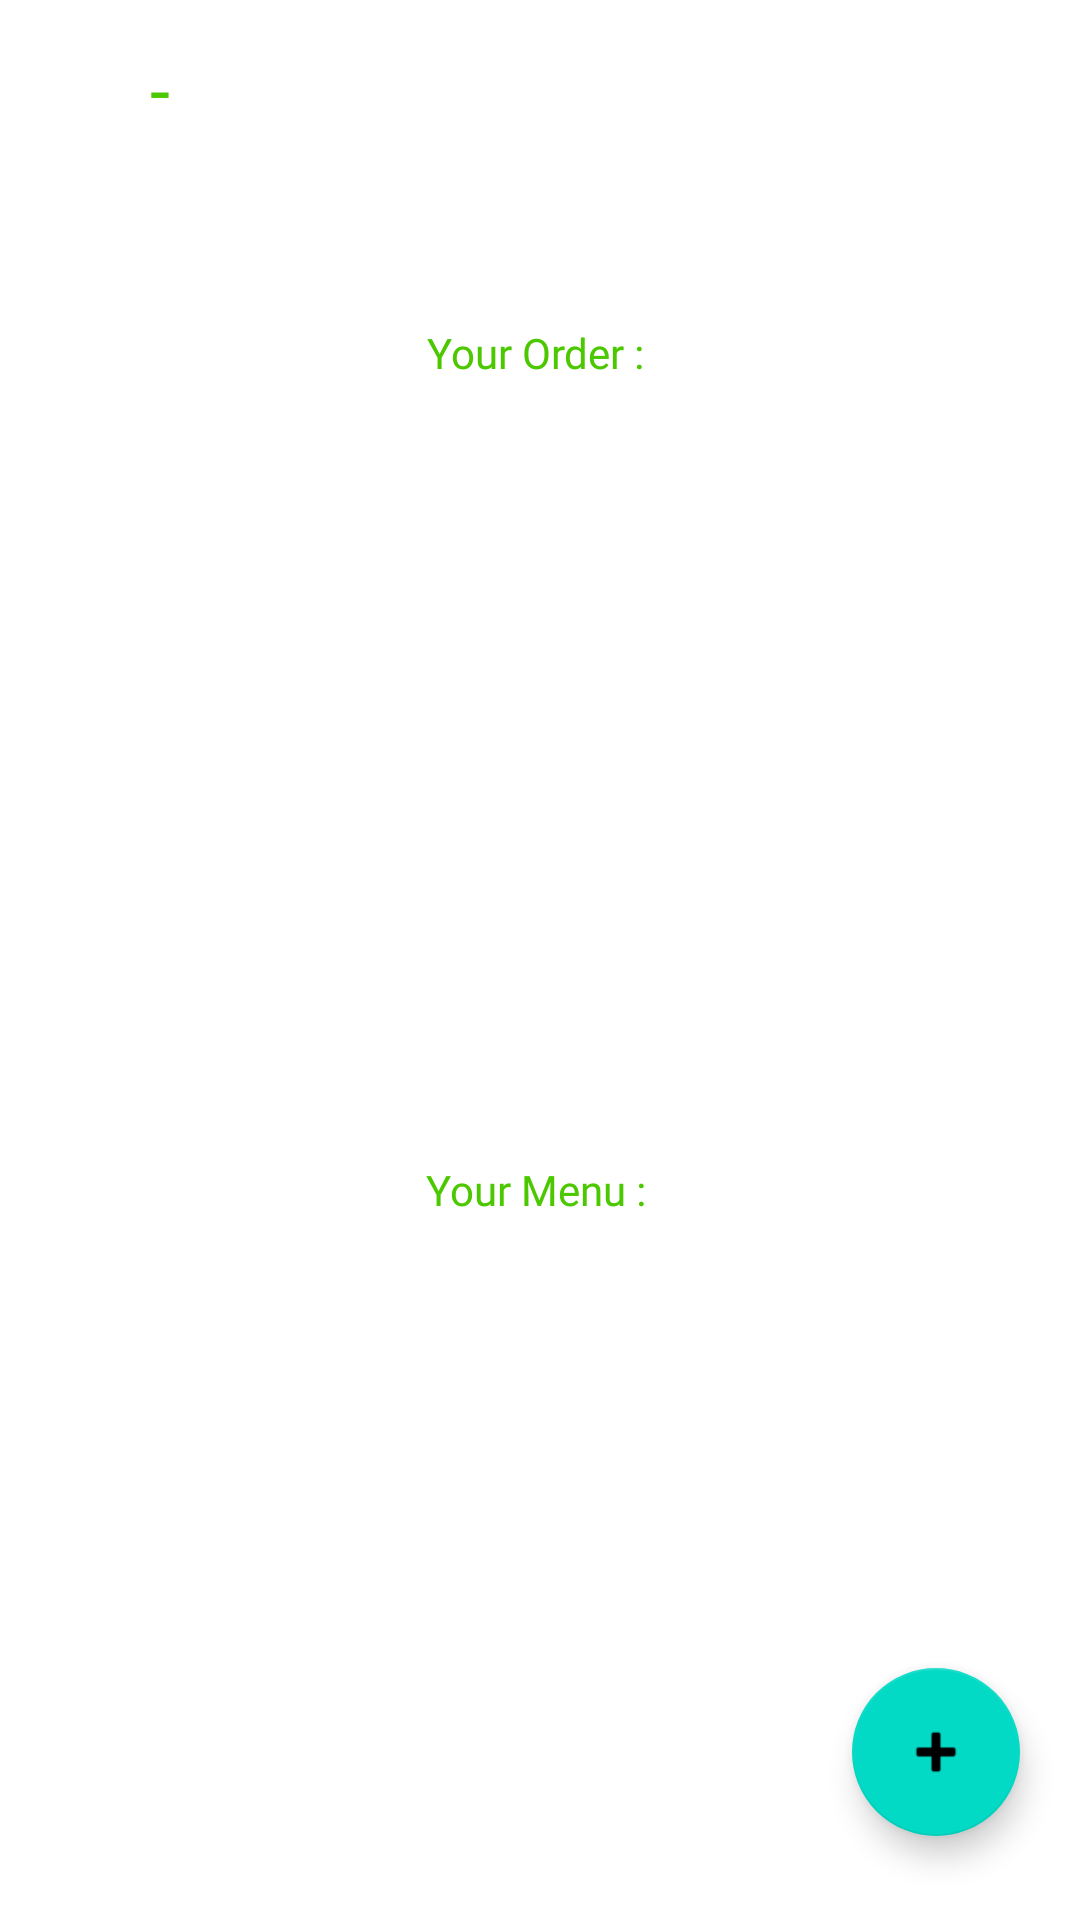

Icon bounding boxes for this 1080 x 1920 phone screenshot, format (x1, y1, x2, y2):
add: (852, 1668, 1020, 1836)
